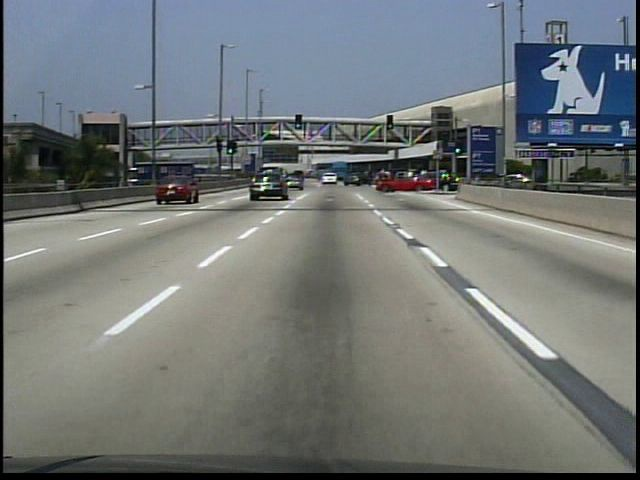person: (229, 131, 236, 144)
